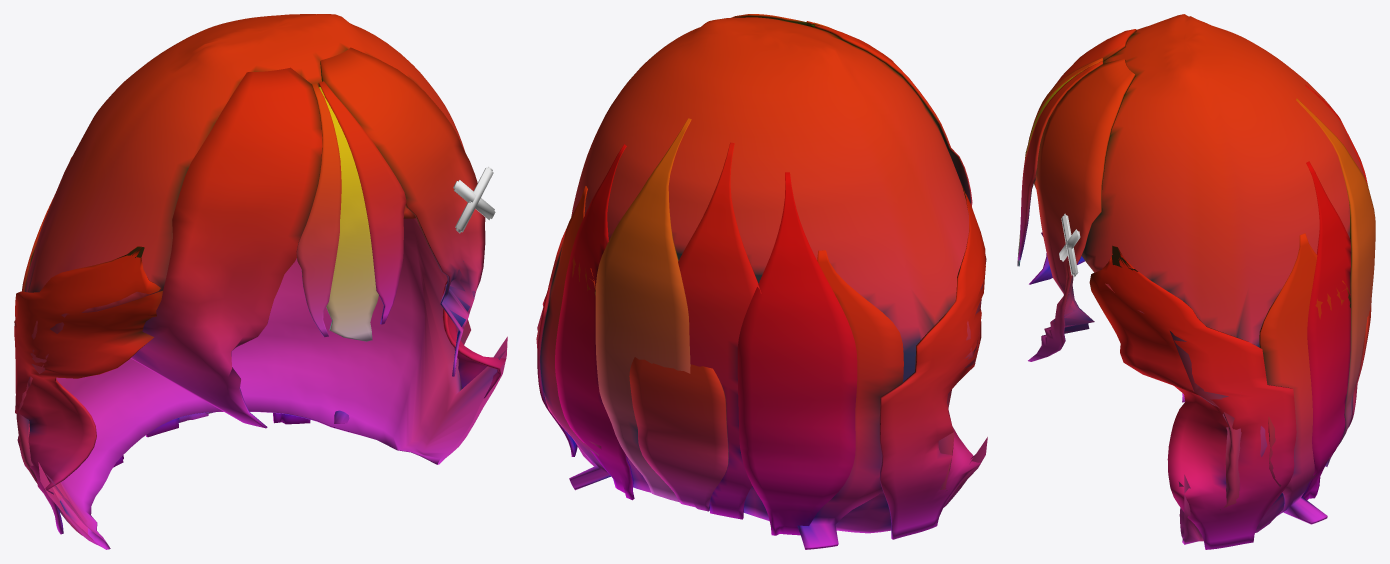
File: hair_bob_01_v5f_test.fbx
The picture shows the model from 3 angles, left to right: view 1: azimuth 30°, elevation 25°; view 2: azimuth 150°, elevation 25°; view 3: azimuth 270°, elevation 25°; orthographic projection. The views are drawn at different scales.
Visible parts, largest first — view 1: hair_bob_01__Volume, hair_bob_01__Bangs, hair_bob_01__Side_R, hair_bob_01__Side_L, acc_head_hairclip_x_01, hair_bob_01__Back; view 2: hair_bob_01__Back, hair_bob_01__Volume, hair_bob_01__Side_R, hair_bob_01__Side_L, hair_bob_01__Bangs; view 3: hair_bob_01__Volume, hair_bob_01__Side_L, hair_bob_01__Bangs, hair_bob_01__Back, acc_head_hairclip_x_01.
Boxes of the visible parts, box(x1,y1,x2,y2) form: hair_bob_01__Volume: box(16, 14, 507, 549); hair_bob_01__Bangs: box(131, 47, 485, 428); hair_bob_01__Side_R: box(14, 157, 162, 534); hair_bob_01__Side_L: box(334, 281, 505, 423); acc_head_hairclip_x_01: box(453, 166, 495, 233); hair_bob_01__Back: box(113, 412, 310, 467); hair_bob_01__Back: box(555, 118, 857, 535); hair_bob_01__Volume: box(537, 17, 987, 533); hair_bob_01__Side_R: box(797, 185, 985, 549); hair_bob_01__Side_L: box(536, 186, 610, 490); hair_bob_01__Bangs: box(732, 14, 972, 206); hair_bob_01__Volume: box(1034, 14, 1364, 544); hair_bob_01__Side_L: box(1089, 233, 1350, 549); hair_bob_01__Bangs: box(1017, 29, 1136, 361); hair_bob_01__Back: box(1296, 84, 1375, 500); acc_head_hairclip_x_01: box(1059, 213, 1080, 277).
Size of the model in its own units: 50.27 by 49.25 by 36.88.
